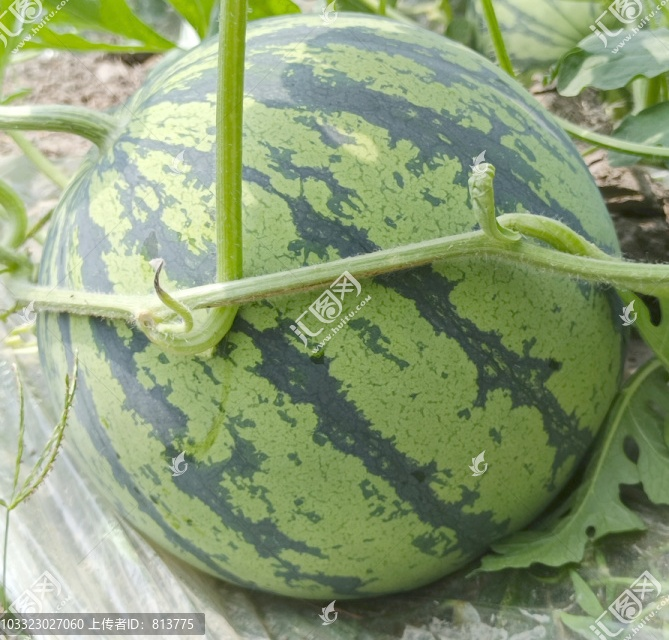watermelon: (45, 12, 629, 607)
